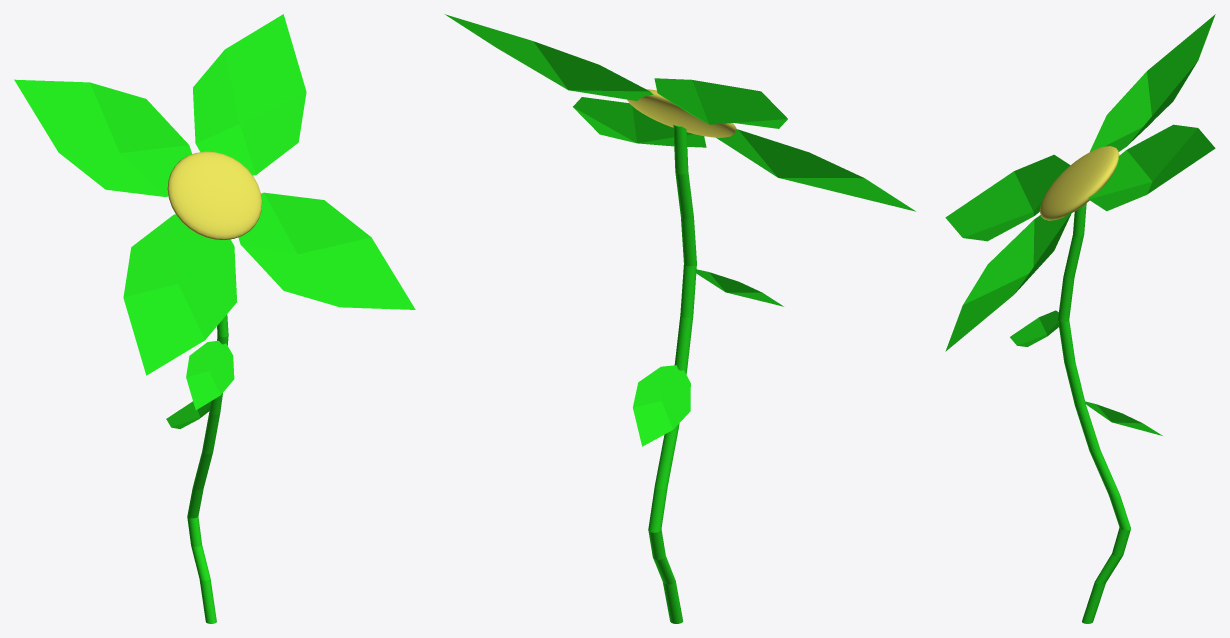
Rendered from SpecialFlower.fbx.
The picture shows the model from 3 angles, left to right: view 1: azimuth 30°, elevation 25°; view 2: azimuth 150°, elevation 25°; view 3: azimuth 270°, elevation 25°; orthographic projection. The views are drawn at different scales.
Visible parts, largest first — view 1: SpecialFlower; view 2: SpecialFlower; view 3: SpecialFlower.
Boxes of the visible parts, left/top/right/bottom form: SpecialFlower: left=14, top=14, right=415, bottom=623; SpecialFlower: left=444, top=14, right=915, bottom=623; SpecialFlower: left=945, top=14, right=1215, bottom=623.
Size of the model in its own units: 201 by 171 by 378.
